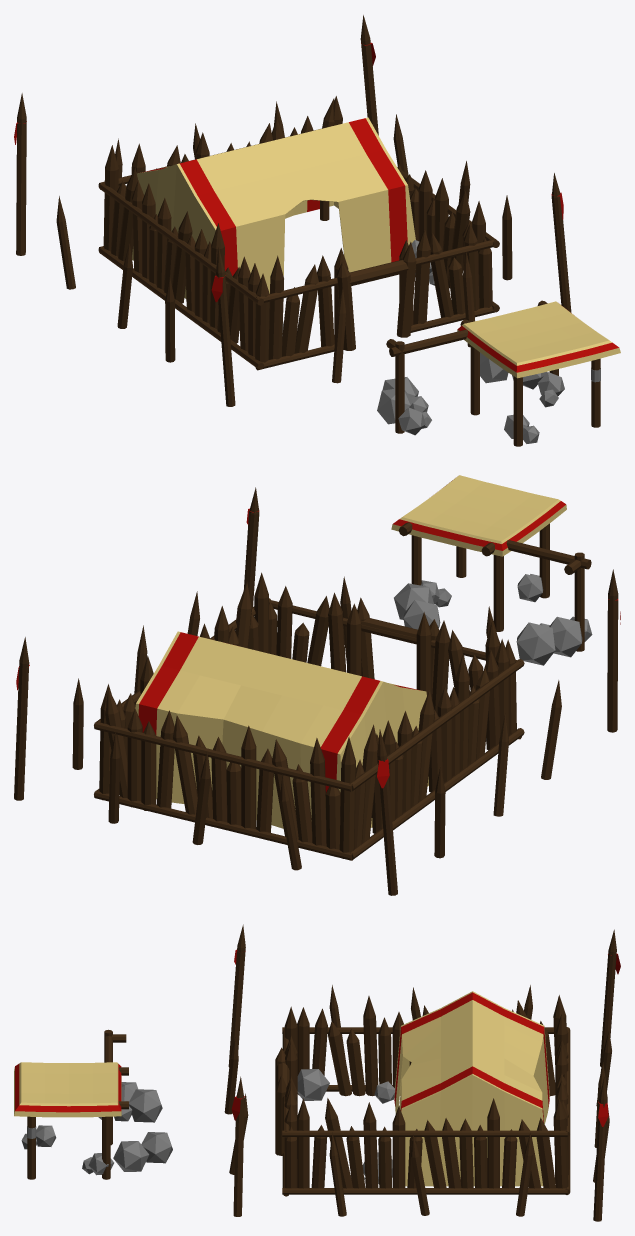
File: Stone Age.fbx
3 renders of one model, top to bottom at view 1: azimuth 30°, elevation 25°; view 2: azimuth 150°, elevation 25°; view 3: azimuth 270°, elevation 25°, orthographic. The views are drawn at different scales.
Visible parts, largest first — view 1: Plane.040, Plane.039, Cylinder.178, Cylinder.089, Cylinder.177, Cylinder.123, Cylinder.176, Cylinder.075, Cylinder.057, Cylinder.114, Cylinder.052, Cylinder.072 (+37 smaller); view 2: Plane.040, Plane.039, Cylinder.121, Cylinder.124, Cylinder.089, Cylinder.177, Cylinder.179, Cylinder.123, Cylinder.108, Cylinder.178, Cylinder.100, Cylinder.096 (+55 smaller); view 3: Plane.040, Plane.039, Cylinder.070, Cylinder.122, Cylinder.081, Cylinder.176, Cylinder.179, Cylinder.177, Cylinder.113, Cylinder.178, Cylinder.109, Cylinder.058 (+32 smaller).
Part boxes in pixels (x1=…): Plane.040: x1=132, y1=117, x2=415, y2=298; Plane.039: x1=457, y1=301, x2=620, y2=378; Cylinder.178: x1=16, y1=93, x2=26, y2=255; Cylinder.089: x1=98, y1=182, x2=264, y2=305; Cylinder.177: x1=216, y1=247, x2=235, y2=406; Cylinder.123: x1=98, y1=246, x2=264, y2=369; Cylinder.176: x1=551, y1=173, x2=571, y2=312; Cylinder.075: x1=268, y1=255, x2=283, y2=359; Cylinder.057: x1=256, y1=239, x2=496, y2=302; Cylinder.114: x1=397, y1=242, x2=416, y2=337; Cylinder.052: x1=413, y1=229, x2=430, y2=324; Cylinder.072: x1=317, y1=255, x2=334, y2=346; Plane.040: x1=135, y1=631, x2=428, y2=828; Plane.039: x1=391, y1=475, x2=566, y2=556; Cylinder.121: x1=94, y1=721, x2=352, y2=791; Cylinder.124: x1=94, y1=790, x2=353, y2=860; Cylinder.089: x1=350, y1=659, x2=524, y2=791; Cylinder.177: x1=607, y1=569, x2=618, y2=732; Cylinder.179: x1=14, y1=637, x2=29, y2=800; Cylinder.123: x1=350, y1=728, x2=524, y2=859; Cylinder.108: x1=339, y1=737, x2=355, y2=858; Cylinder.178: x1=377, y1=729, x2=397, y2=895; Cylinder.100: x1=310, y1=738, x2=326, y2=846; Cylinder.096: x1=241, y1=725, x2=256, y2=828; Plane.040: x1=394, y1=991, x2=549, y2=1186; Plane.039: x1=14, y1=1062, x2=121, y2=1117; Cylinder.070: x1=282, y1=1130, x2=567, y2=1136; Cylinder.122: x1=282, y1=1188, x2=567, y2=1194; Cylinder.081: x1=363, y1=996, x2=378, y2=1096; Cylinder.176: x1=233, y1=1076, x2=244, y2=1216; Cylinder.179: x1=593, y1=1076, x2=607, y2=1221; Cylinder.177: x1=228, y1=924, x2=245, y2=1067; Cylinder.113: x1=553, y1=1098, x2=568, y2=1188; Cylinder.178: x1=600, y1=929, x2=616, y2=1066; Cylinder.109: x1=487, y1=1098, x2=499, y2=1188; Cylinder.058: x1=297, y1=1098, x2=309, y2=1188.
Size of the model in its own units: 600 by 249 by 958.
